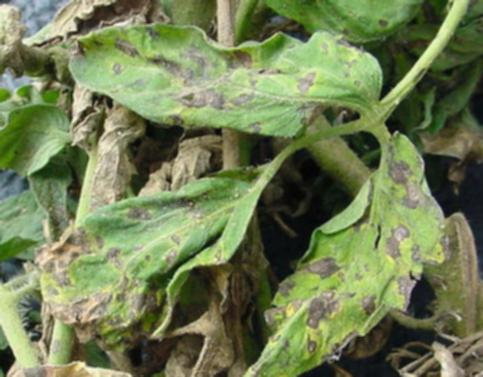Tomato leaf late blight: (223, 126, 451, 377), (46, 163, 268, 336), (60, 27, 387, 137)
